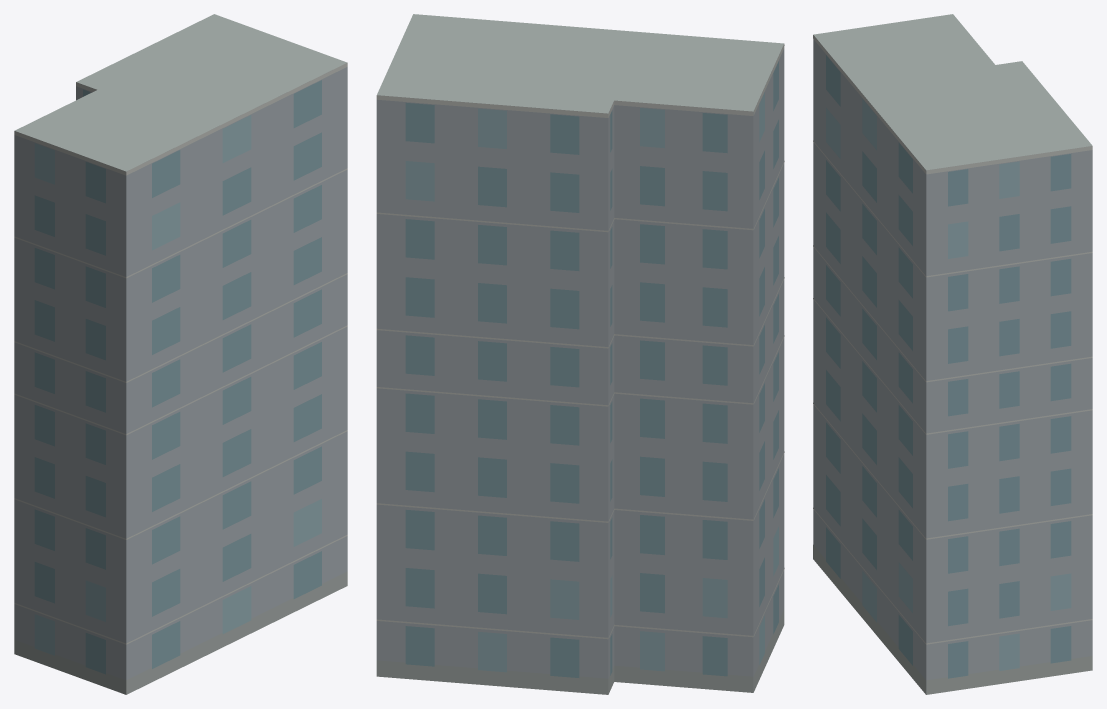
Rendered from survey-upis-32804563.glb.
3 renders of one model, left to right at view 1: azimuth 30°, elevation 25°; view 2: azimuth 150°, elevation 25°; view 3: azimuth 270°, elevation 25°, orthographic. The views are drawn at different scales.
Parts seen in each view (by area): view 1: survey-upis-32804563.tmp; view 2: survey-upis-32804563.tmp; view 3: survey-upis-32804563.tmp.
Part boxes in pixels (x1,y1,x2,y2): survey-upis-32804563.tmp: [14, 14, 347, 694]; survey-upis-32804563.tmp: [376, 14, 784, 694]; survey-upis-32804563.tmp: [813, 14, 1092, 694].
Size of the model in its own units: 19.78 by 30.9 by 14.95.
